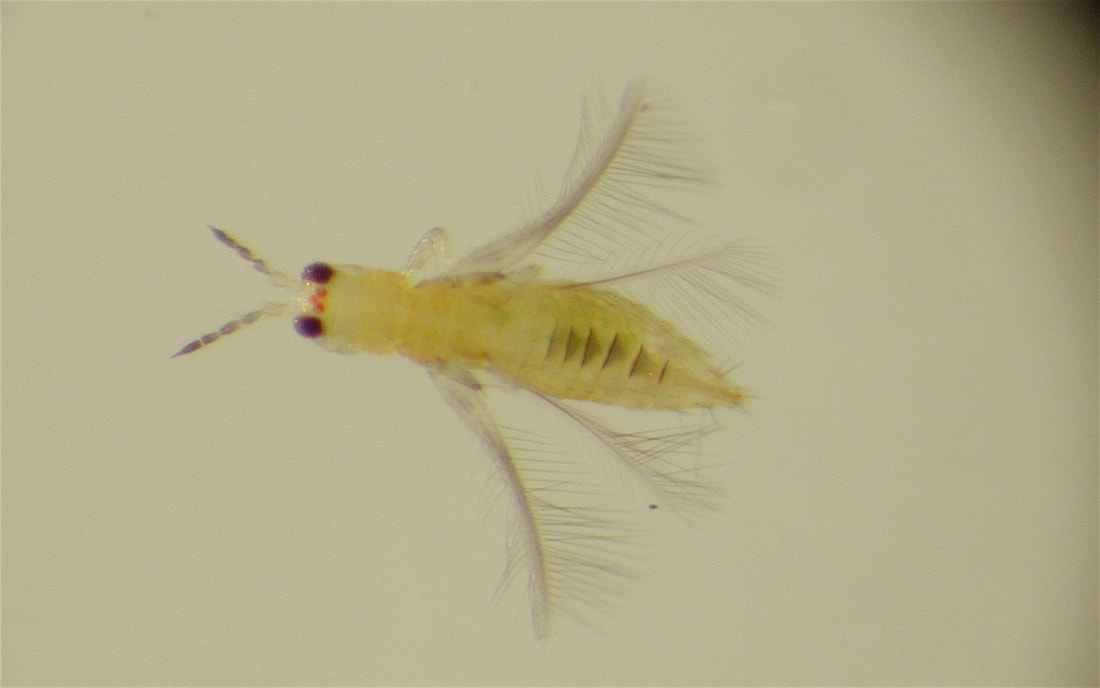Thrips: (148, 119, 786, 603)
